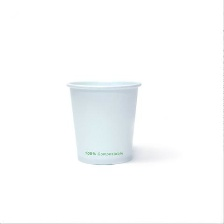paper_cup: (61, 77, 145, 169)
